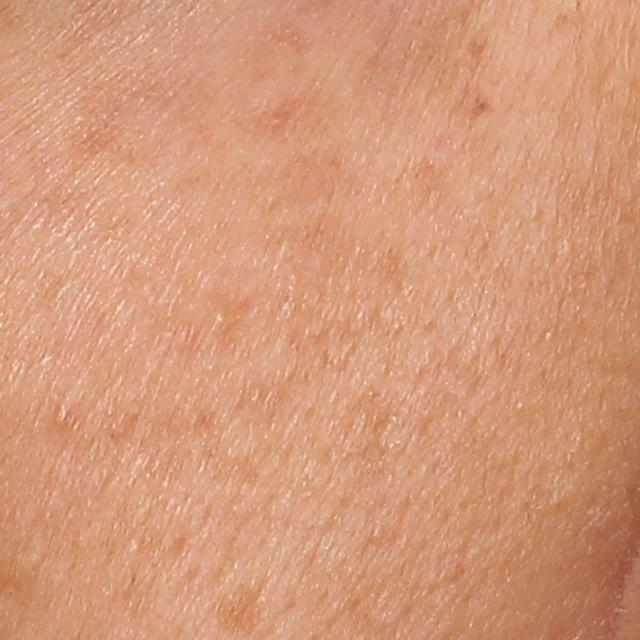melasma: (65, 53, 227, 163), (214, 79, 357, 150), (250, 141, 371, 221), (388, 147, 459, 227)
